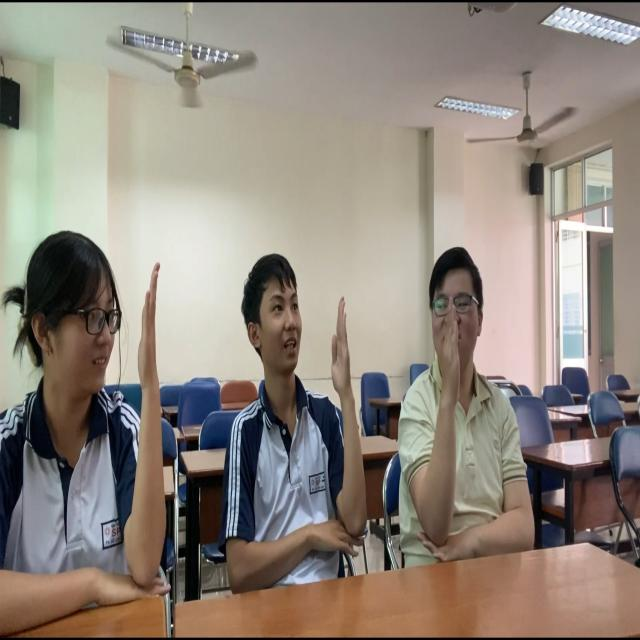raise_hand: (1, 209, 172, 640), (216, 246, 373, 592), (394, 232, 545, 583)
